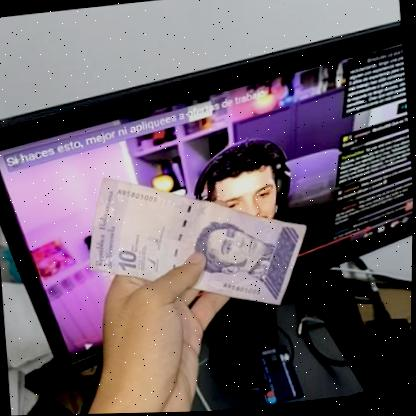ten-front-vef: (80, 156, 315, 329)
